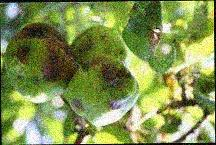rotten apple: (3, 17, 76, 103), (64, 56, 144, 127)
